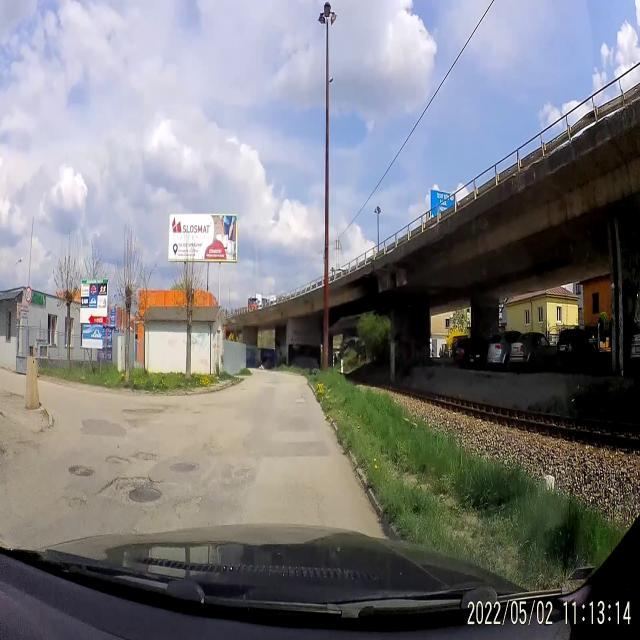Manhole: (66, 458, 98, 484)
Pothole: (98, 468, 134, 510), (122, 402, 168, 430), (128, 480, 164, 511), (174, 490, 202, 526), (167, 452, 200, 480), (105, 448, 134, 476), (38, 408, 58, 444), (61, 489, 90, 511), (133, 446, 157, 468), (1, 386, 24, 402), (0, 408, 5, 428), (0, 441, 6, 456)
